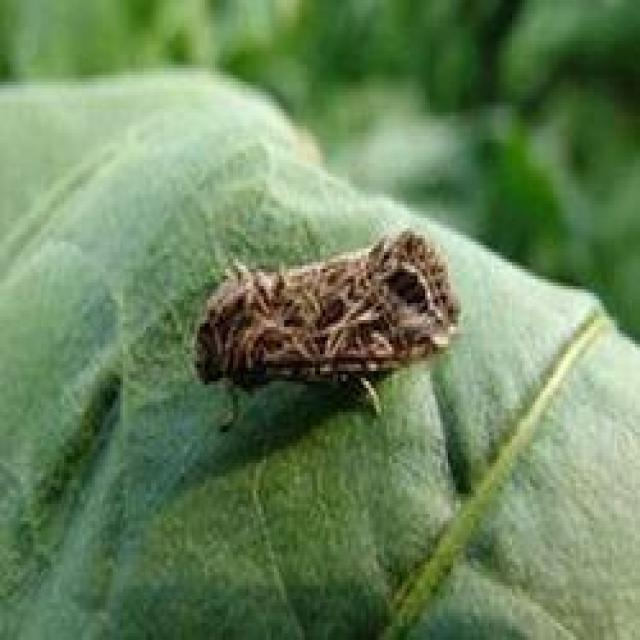BeetArmyWorm-Adult-: (178, 220, 470, 423)
